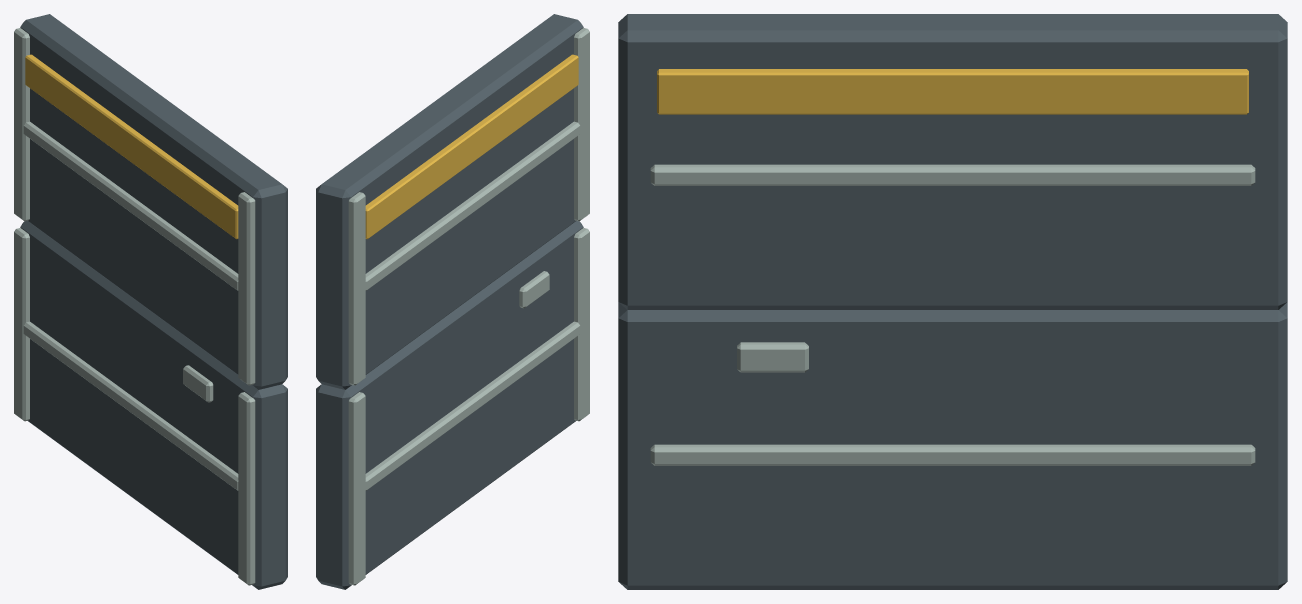
File: safehouse_door.glb
3 renders of one model, left to right at view 1: azimuth 30°, elevation 25°; view 2: azimuth 150°, elevation 25°; view 3: azimuth 270°, elevation 25°, orthographic. The views are drawn at different scales.
Visible parts, largest first — view 1: Occlude_Door_Mesh, Keep_Mesh; view 2: Occlude_Door_Mesh, Keep_Mesh; view 3: Occlude_Door_Mesh, Keep_Mesh.
Boxes of the visible parts, x1,y1,x2,y2 form: Occlude_Door_Mesh: [14, 14, 287, 389]; Keep_Mesh: [14, 221, 287, 589]; Occlude_Door_Mesh: [316, 14, 589, 389]; Keep_Mesh: [316, 221, 589, 589]; Occlude_Door_Mesh: [618, 14, 1287, 309]; Keep_Mesh: [618, 302, 1287, 589].
Size of the model in its own units: 0.3 by 2.4 by 2.6.
